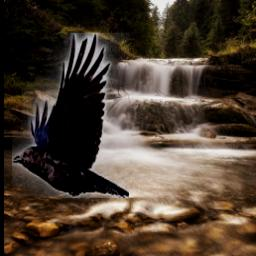Crow: (12, 34, 129, 199)
